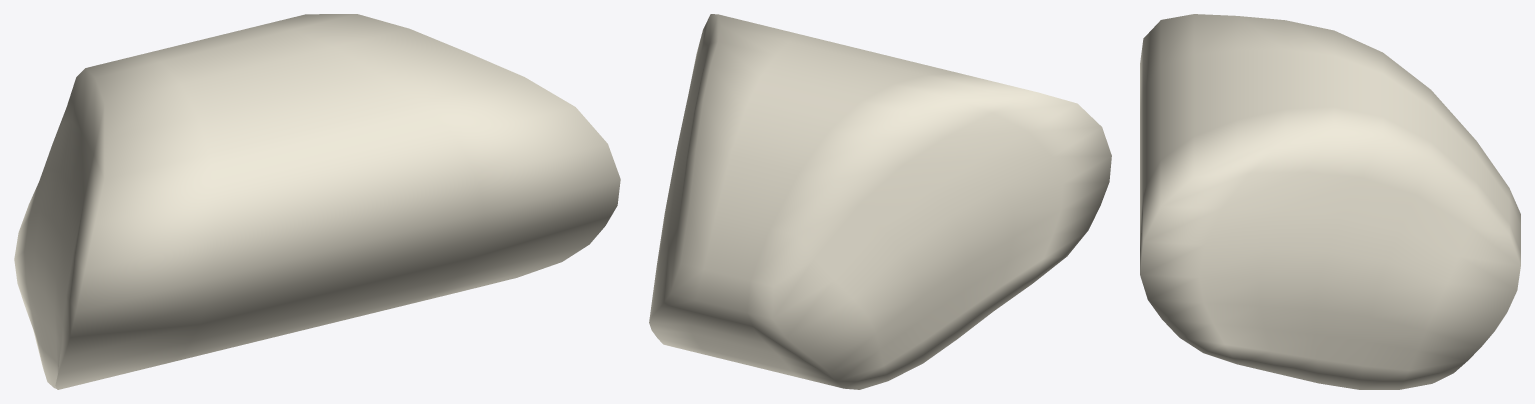
The picture shows the model from 3 angles, left to right: view 1: azimuth 30°, elevation 25°; view 2: azimuth 150°, elevation 25°; view 3: azimuth 270°, elevation 25°; orthographic projection. The views are drawn at different scales.
Parts seen in each view (by area): view 1: ZA_6d585f12856d6f0e; view 2: ZA_6d585f12856d6f0e; view 3: ZA_6d585f12856d6f0e.
Boxes of the visible parts, x1,y1,x2,y2 form: ZA_6d585f12856d6f0e: (14,14,620,389); ZA_6d585f12856d6f0e: (649,14,1111,389); ZA_6d585f12856d6f0e: (1140,14,1520,389).
Size of the model in its own units: 0.0343 by 0.0192 by 0.0259.
